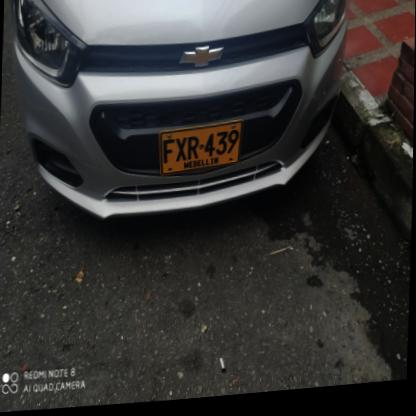placa: (154, 120, 246, 183)
